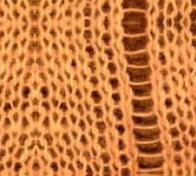slub: (120, 1, 167, 175)
